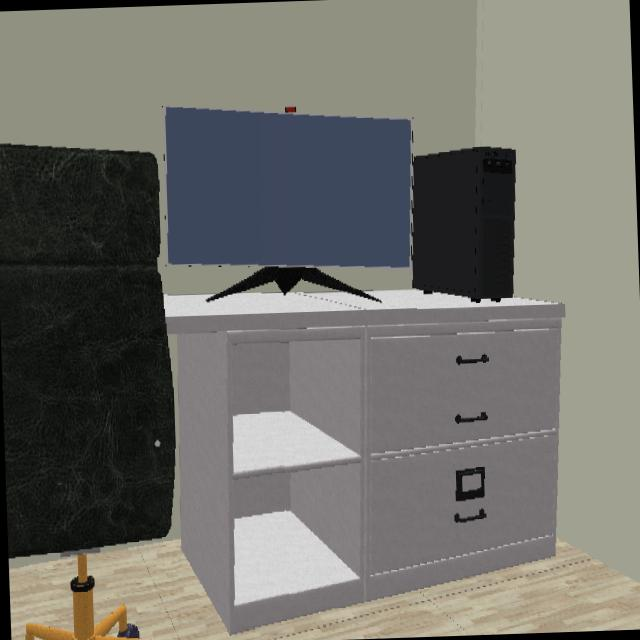cabinet: (289, 308, 563, 608)
chair: (0, 143, 177, 561), (26, 559, 138, 640)
monitor: (163, 108, 414, 270)
shelf: (168, 293, 417, 629)
